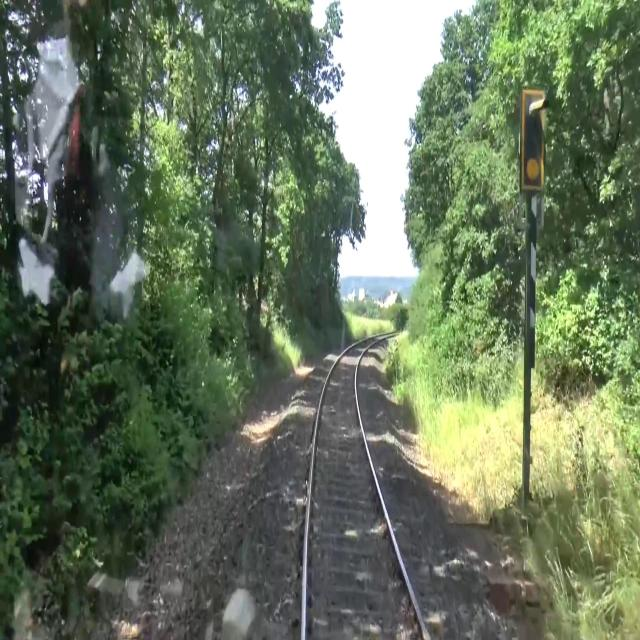rail-track: (306, 339, 424, 639)
